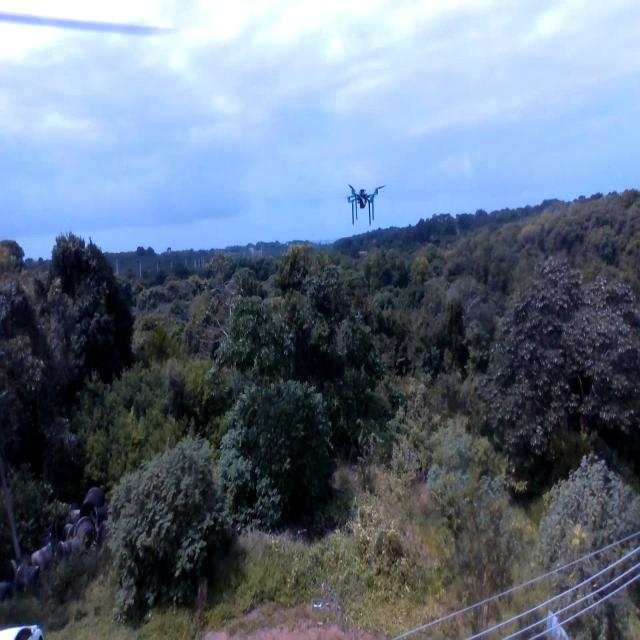-uav-: (343, 176, 388, 228)
